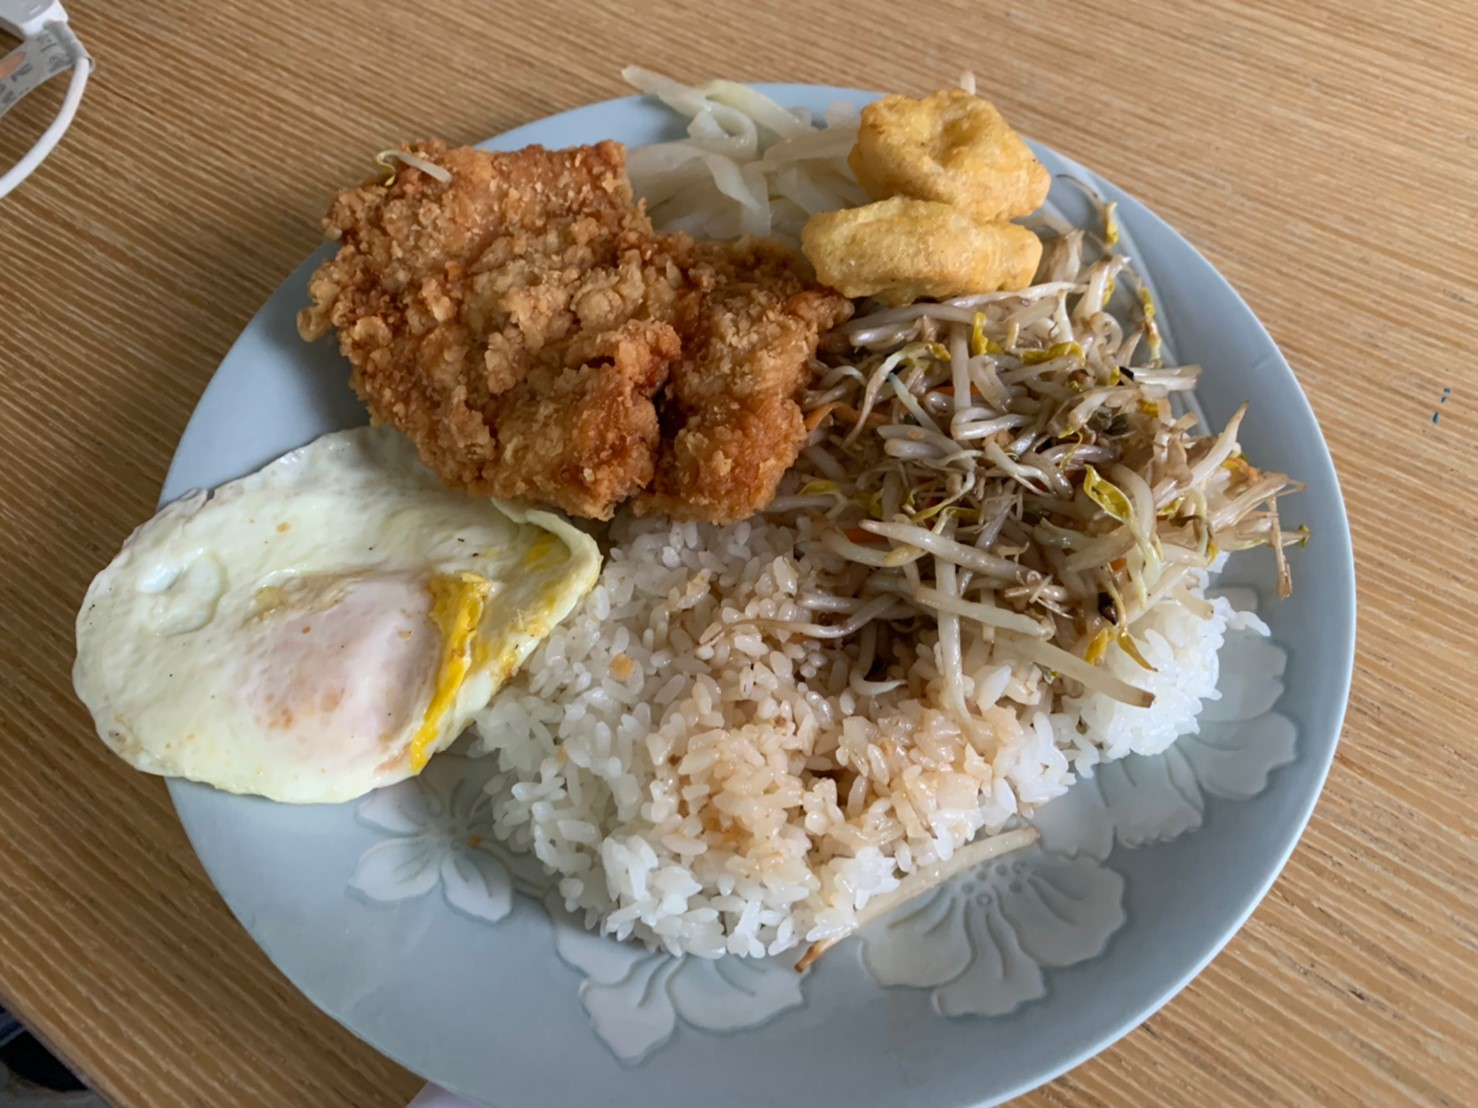chicken_nuggets: (805, 88, 1049, 304)
fried_chicken: (294, 138, 800, 527)
fried_eggs: (73, 436, 547, 809)
mung_bean_sprouts: (864, 304, 1203, 635)
rice: (580, 585, 877, 905)
